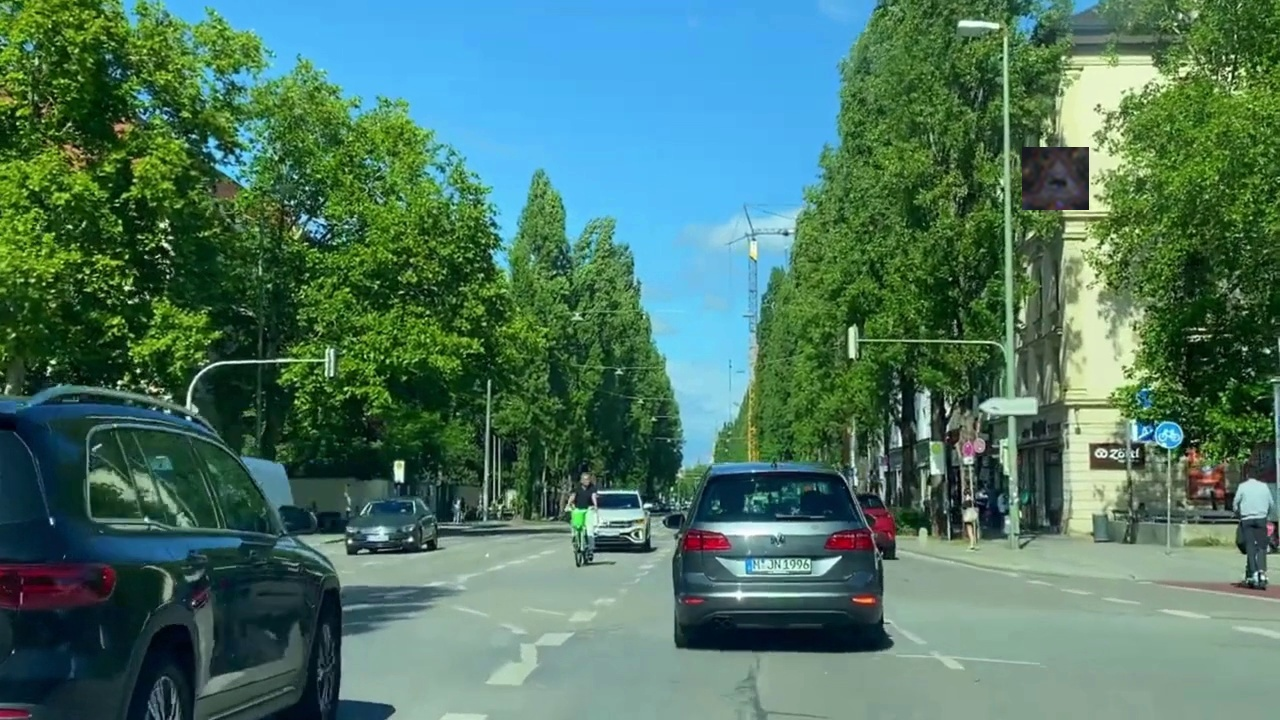Slippery: (1022, 147, 1089, 210)
